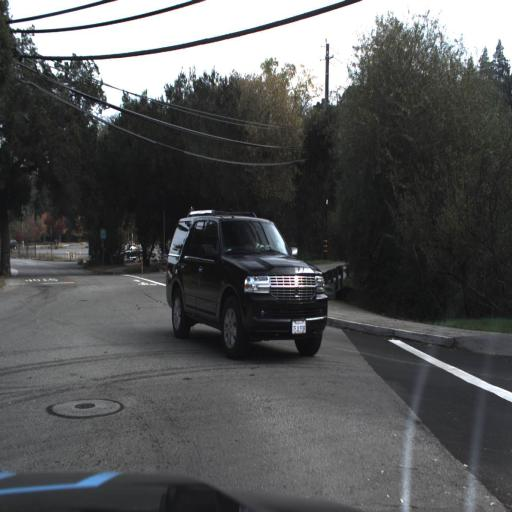car: (160, 204, 331, 364)
